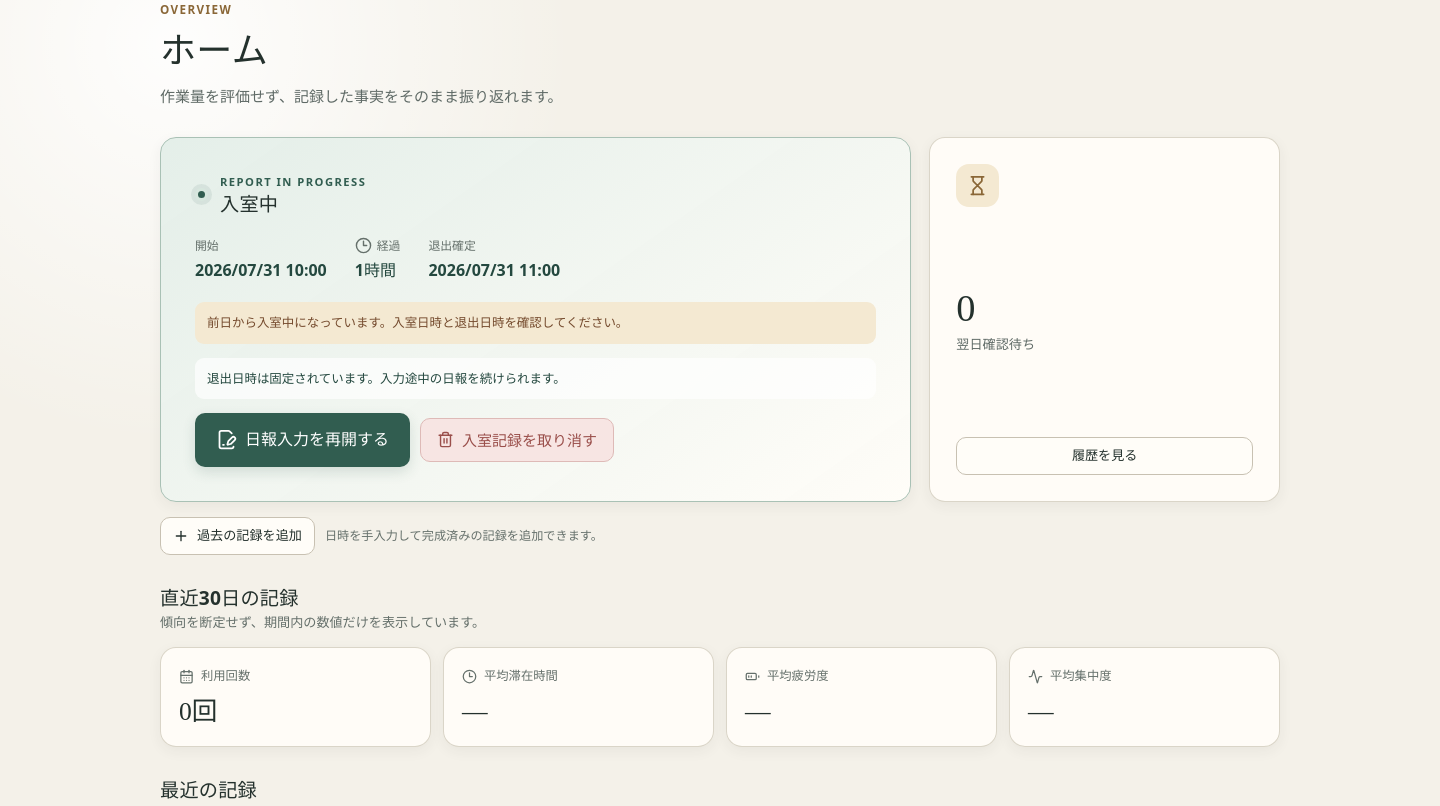
Test: DashboardPageのタイムカード › 日報入力中の取消では確認と明確な警告を表示する
Click the button "入室記録を取り消す": (517, 440) [420,418,614,462]
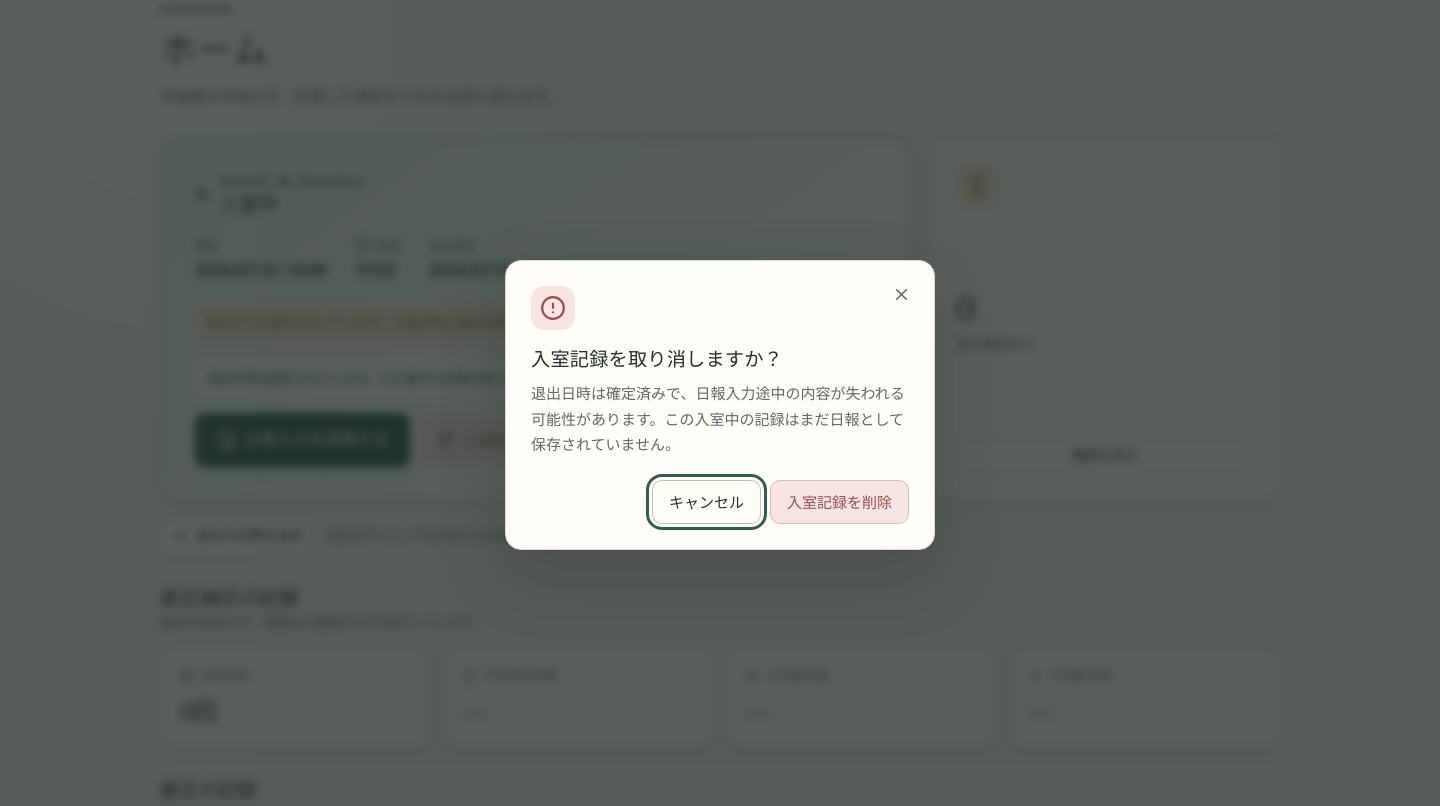
Expected: the text "入室記録を取り消しますか？" is shown, [531,345,783,372]
Expected: the text "日報入力途中の内容が失われる可能性があります" is shown, [531,383,905,454]
